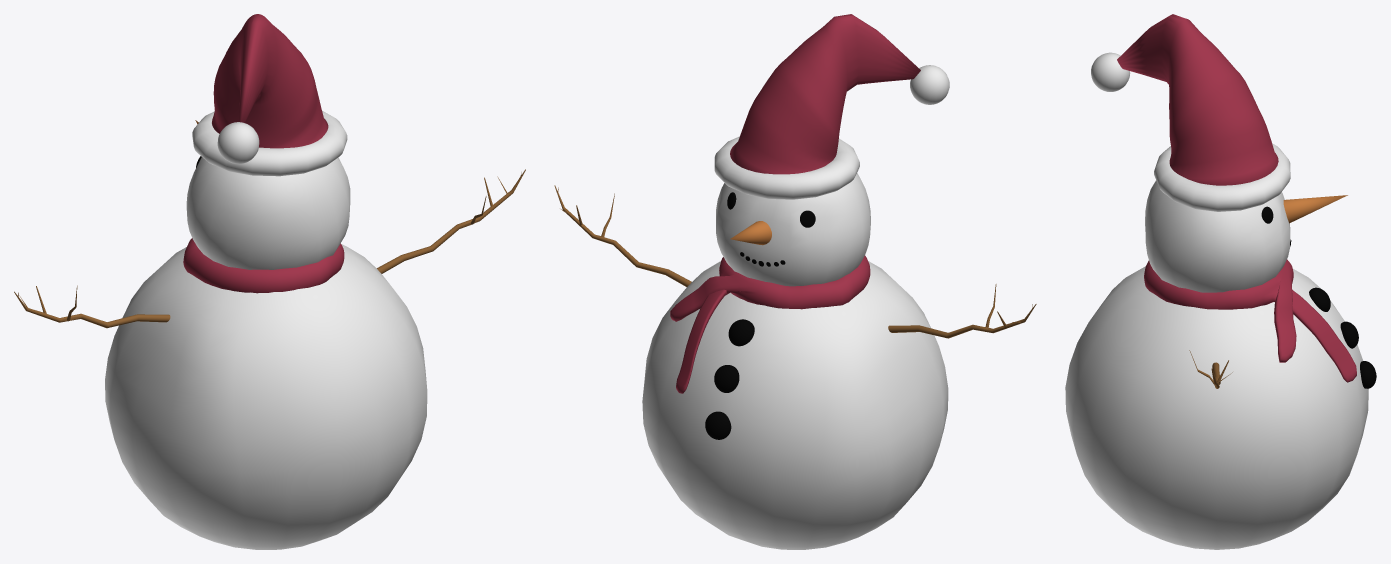
File: snow_man.fbx
3 views of the same model, side by side, from view 1: azimuth 30°, elevation 25°; view 2: azimuth 150°, elevation 25°; view 3: azimuth 270°, elevation 25° (orthographic). The views are drawn at different scales.
Visible parts, largest first — view 1: snowman; view 2: snowman; view 3: snowman.
Part boxes in pixels (box(x1,y1,x2,y2)): snowman: box(14, 14, 525, 549); snowman: box(554, 14, 1036, 549); snowman: box(1065, 14, 1376, 549).
Bounding box in the file's own units: 504 × 510 × 284.
